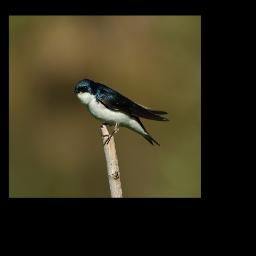Swallow: (72, 78, 171, 150)
